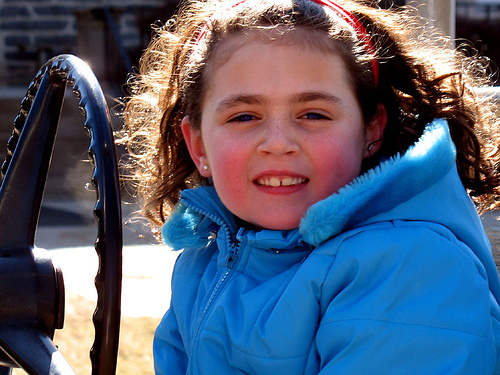without_mask: (180, 4, 402, 244)
